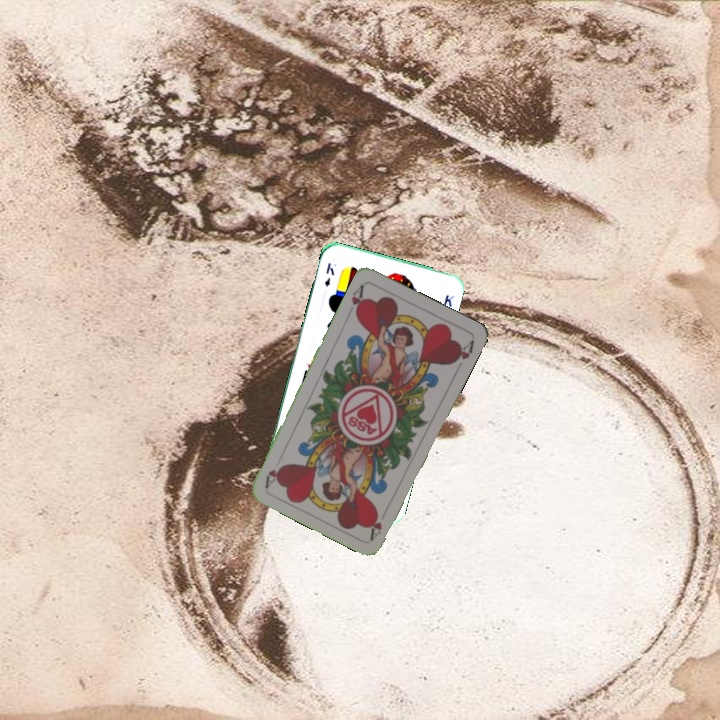EK: (320, 258, 337, 289)
HA: (347, 280, 368, 318), (365, 506, 385, 542)
